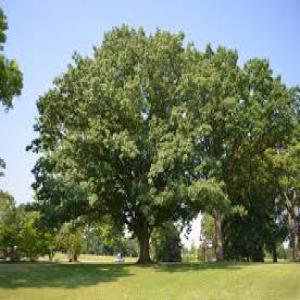Tree: (23, 21, 252, 264)
